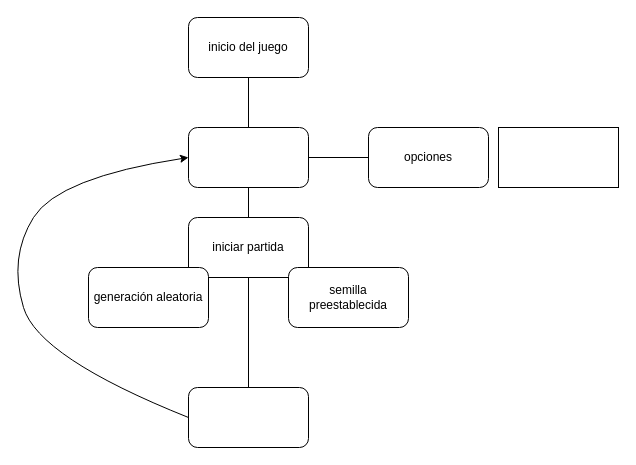
This 636x465 diagram has some shape labels left out. Each missing label, with the centre of its shape:
"final de partida" goes at (248,417).
"menú principal" goes at (248,157).
"personaje dificultad" goes at (558,157).
